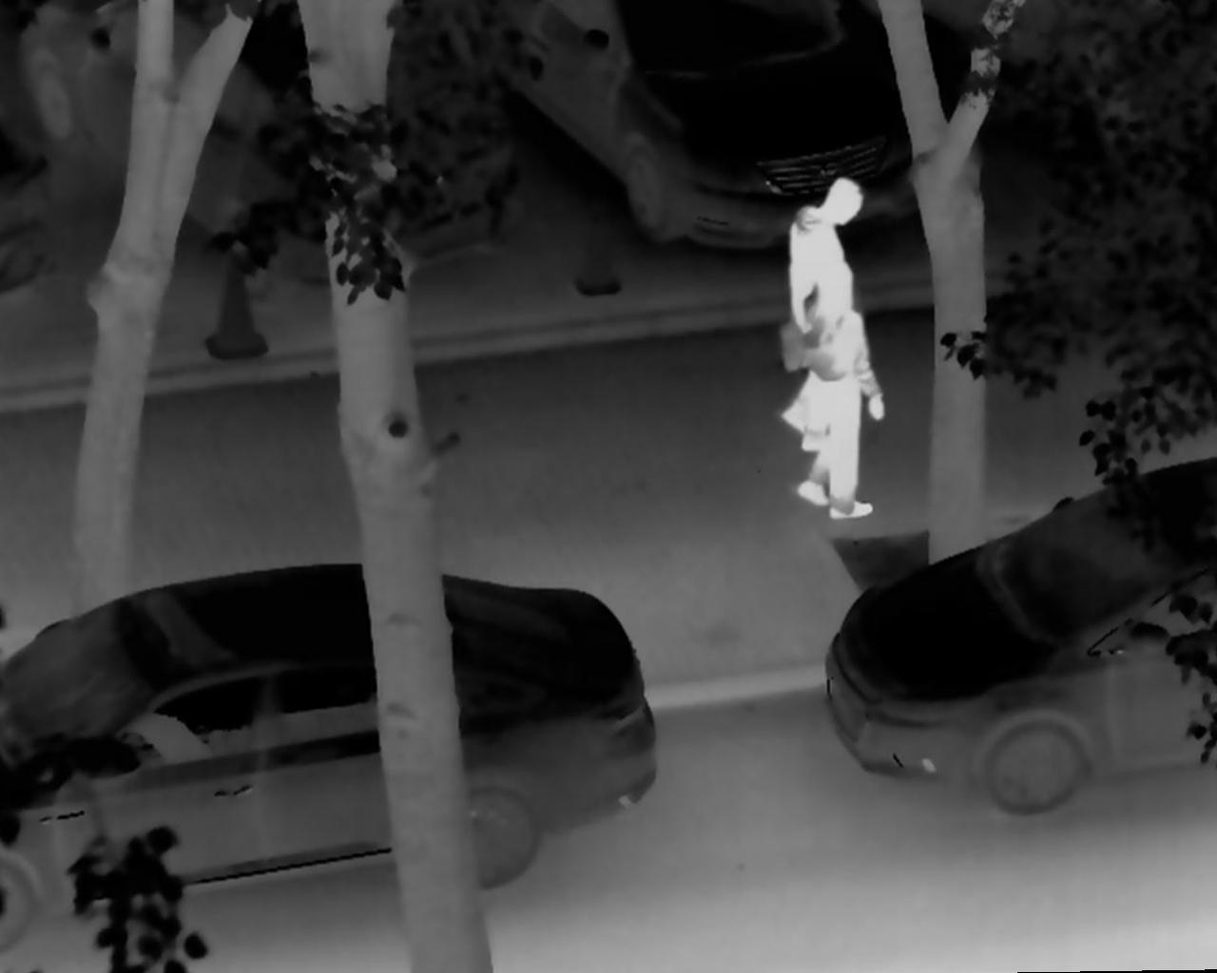person: (768, 171, 879, 434), (796, 263, 882, 524)
